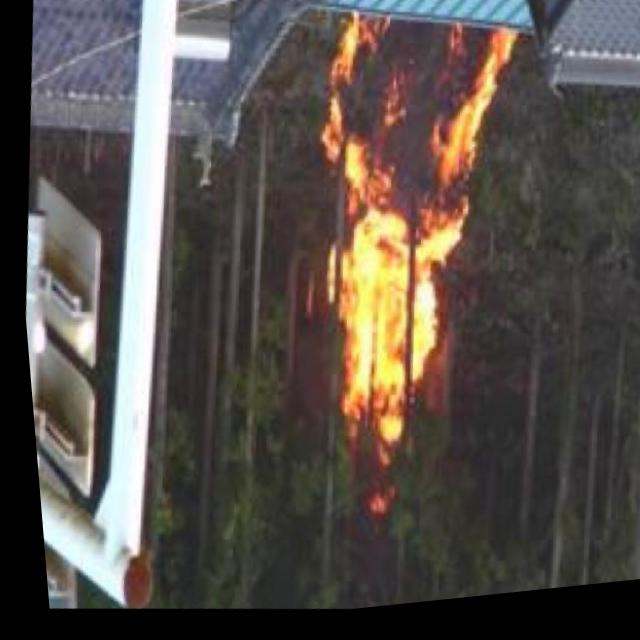Fire: (276, 4, 530, 470)
